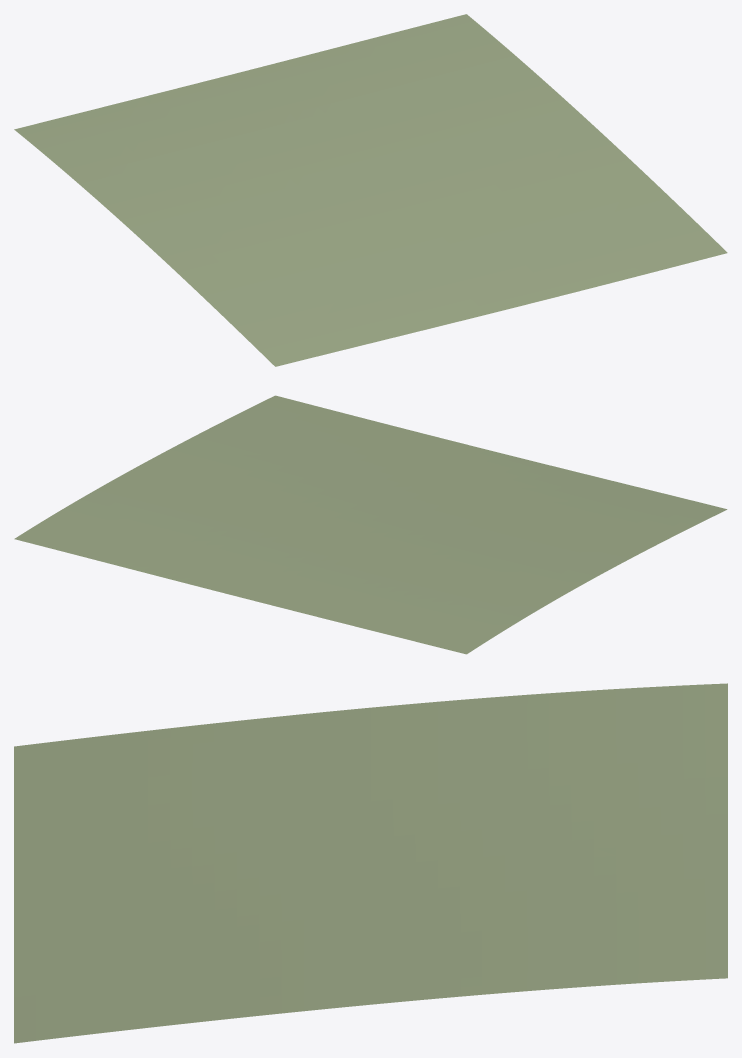
File: desert-28-9.glb
The picture shows the model from 3 angles, top to bottom: view 1: azimuth 30°, elevation 25°; view 2: azimuth 150°, elevation 25°; view 3: azimuth 270°, elevation 25°; orthographic projection. The views are drawn at different scales.
Parts seen in each view (by area): view 1: desert-28-9; view 2: desert-28-9; view 3: desert-28-9.
Part boxes in pixels (<box>): desert-28-9: <box>14,14,727,366</box>; desert-28-9: <box>14,395,727,654</box>; desert-28-9: <box>14,683,727,1043</box>.
Bounding box in the file's own units: 512 × 55.3 × 512.
